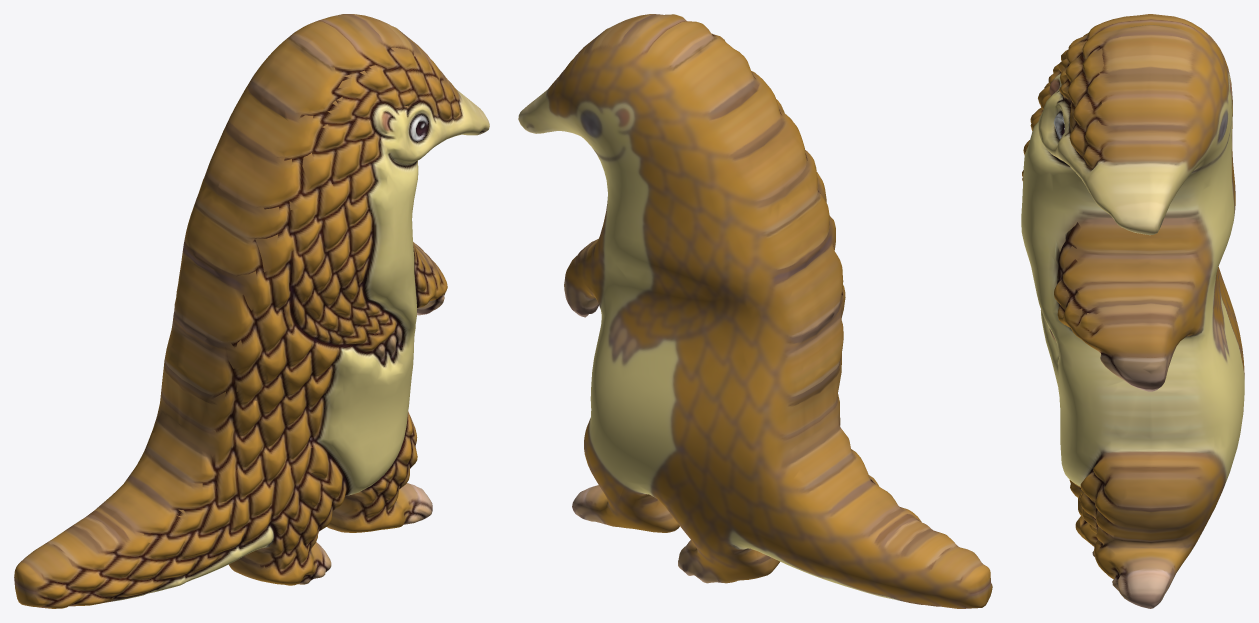
Rendered from NPC_02_穿山甲.glb.
3 renders of one model, left to right at view 1: azimuth 30°, elevation 25°; view 2: azimuth 150°, elevation 25°; view 3: azimuth 270°, elevation 25°, orthographic. The views are drawn at different scales.
Parts seen in each view (by area): view 1: pangolin; view 2: pangolin; view 3: pangolin.
Boxes of the visible parts, x1,y1,x2,y2 form: pangolin: (14, 14, 489, 608); pangolin: (518, 14, 992, 608); pangolin: (1021, 14, 1244, 608).
Size of the model in its own units: 1.48 by 1.65 by 0.5732.
Materials: 1 (1 with a texture image).
